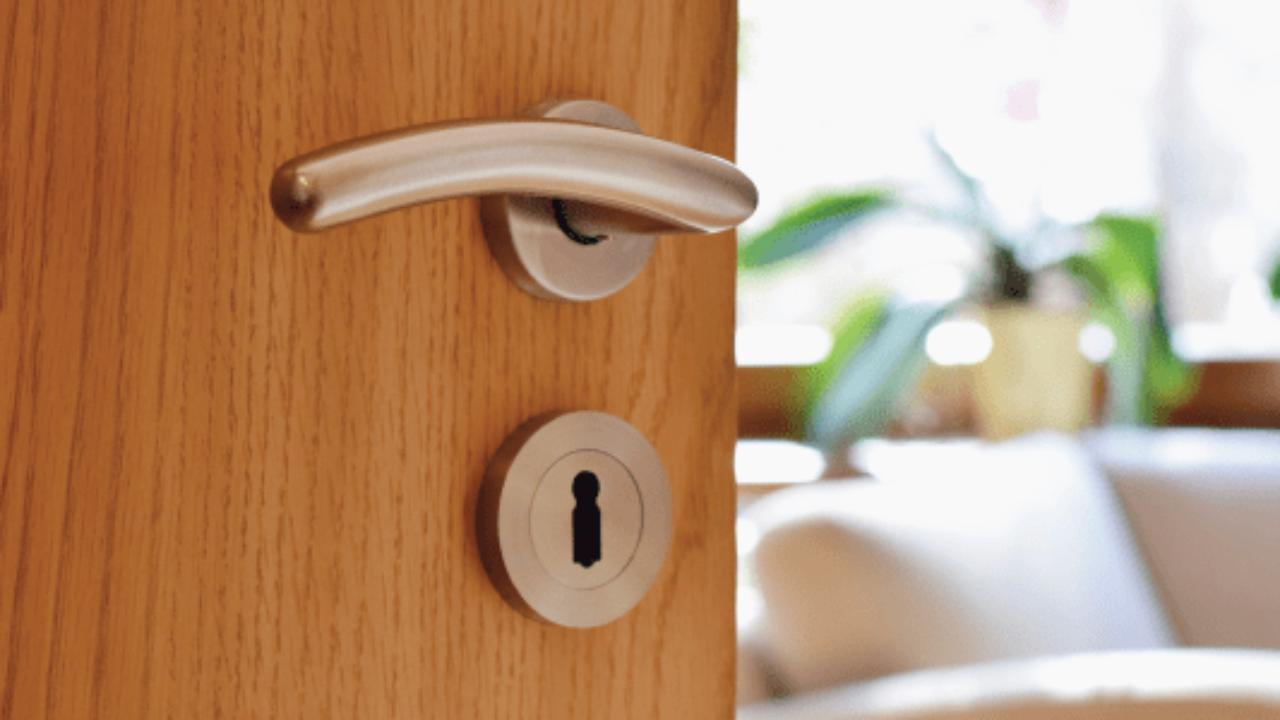doorhandle: (264, 74, 761, 328)
